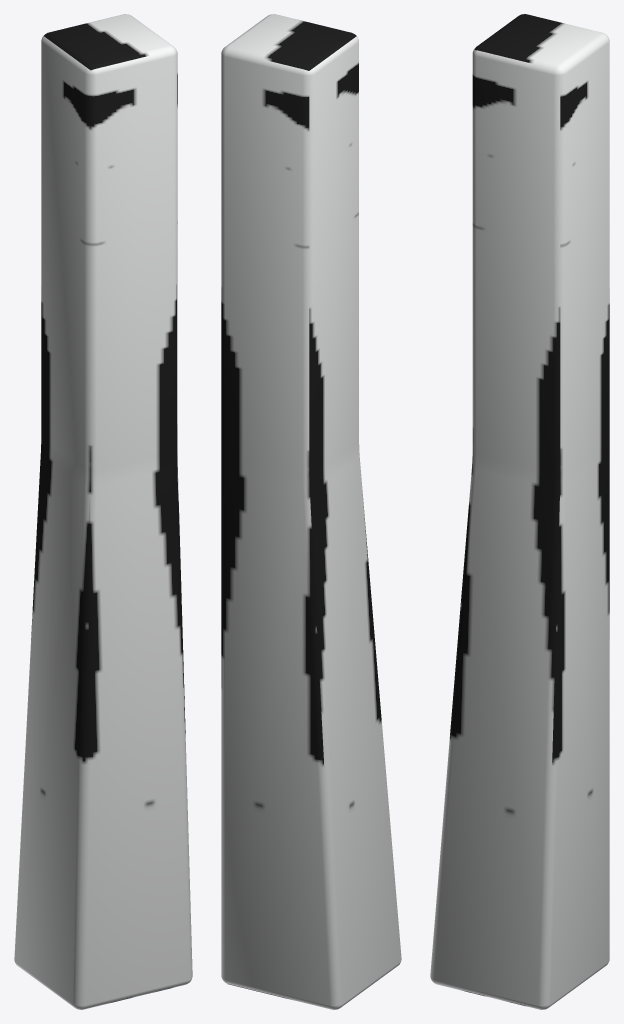
The model's file is Pillar.FBX.
The picture shows the model from 3 angles, left to right: view 1: azimuth 30°, elevation 25°; view 2: azimuth 150°, elevation 25°; view 3: azimuth 330°, elevation 25°; orthographic projection.
Parts seen in each view (by area): view 1: Object043; view 2: Object043; view 3: Object043.
Boxes of the visible parts, x1=… form: Object043: x1=14, y1=14, x2=192, y2=1009; Object043: x1=221, y1=14, x2=401, y2=1009; Object043: x1=430, y1=14, x2=609, y2=1009.
Size of the model in its own units: 4.09 by 30.38 by 3.98.
